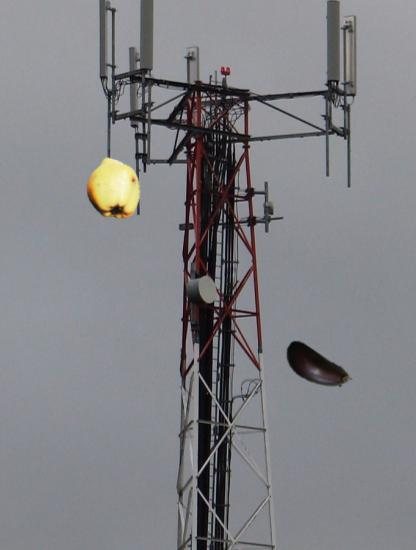Eggplant: (279, 332, 353, 406)
Quince: (83, 157, 146, 220)
